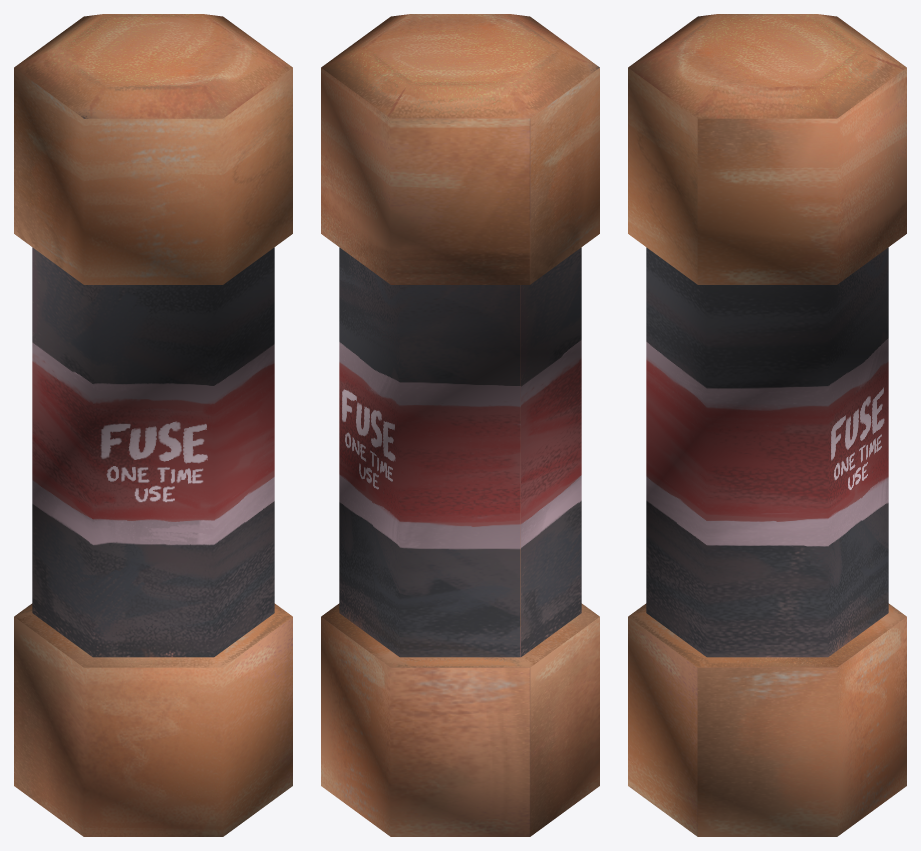
Rendered from fuse.glb.
3 renders of one model, left to right at view 1: azimuth 30°, elevation 25°; view 2: azimuth 150°, elevation 25°; view 3: azimuth 270°, elevation 25°, orthographic.
Visible parts, largest first — view 1: Cylinder; view 2: Cylinder; view 3: Cylinder.
Part boxes in pixels (left/top/right/bottom): Cylinder: left=14, top=14, right=292, bottom=836; Cylinder: left=321, top=14, right=599, bottom=836; Cylinder: left=628, top=14, right=906, bottom=836.
Bounding box in the file's own units: 0.0269 × 0.0915 × 0.031.
Materials: 2 (2 with a texture image).
